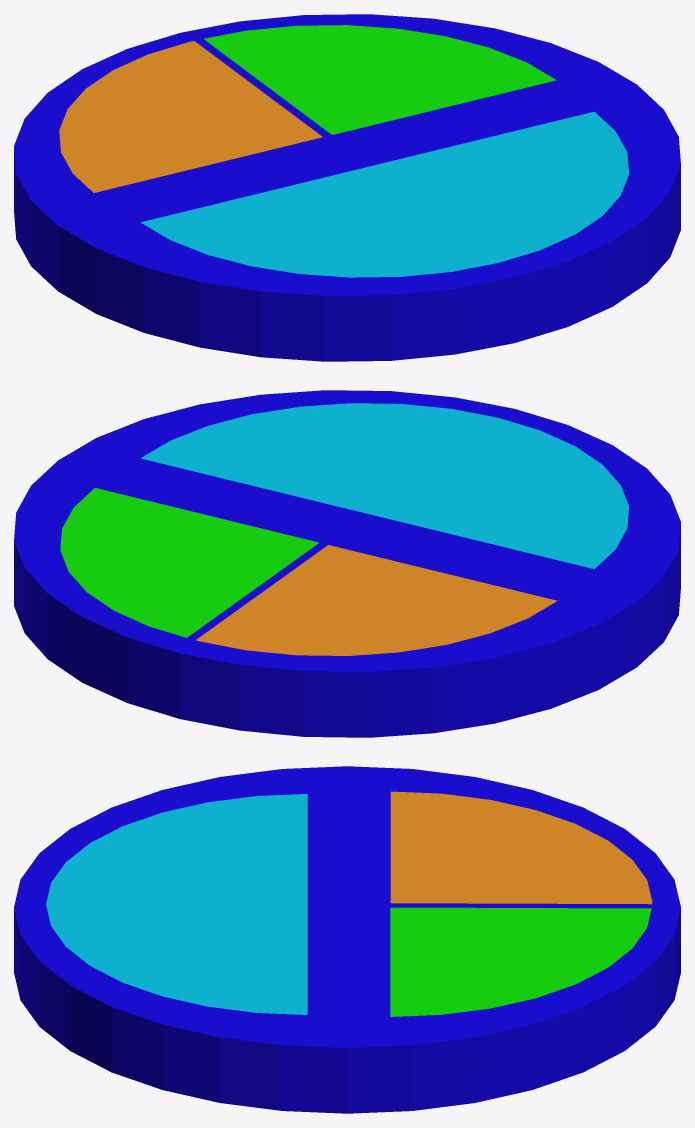
File: PlateTwov2.fbx
3 views of the same model, one above another, from view 1: azimuth 30°, elevation 25°; view 2: azimuth 150°, elevation 25°; view 3: azimuth 270°, elevation 25° (orthographic).
Visible parts, largest first — view 1: Cylinder; view 2: Cylinder; view 3: Cylinder.
Boxes of the visible parts, x1,y1,x2,y2 form: Cylinder: (14,14,680,361); Cylinder: (14,390,680,737); Cylinder: (14,766,680,1113).
Size of the model in its own units: 200 by 22.6 by 200.
